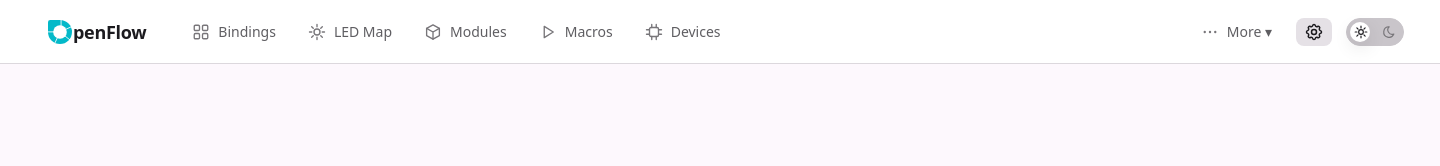
Test: TopNav › links the five pages and Settings, and keeps Hub and Bug Report under More
This screenshot has width=1440, height=166.
Expected: the navigation bar named "Main" is shown, [0,0,1439,64]
Click the button "More ▾" at [1236, 32], box [1187,13,1286,50]
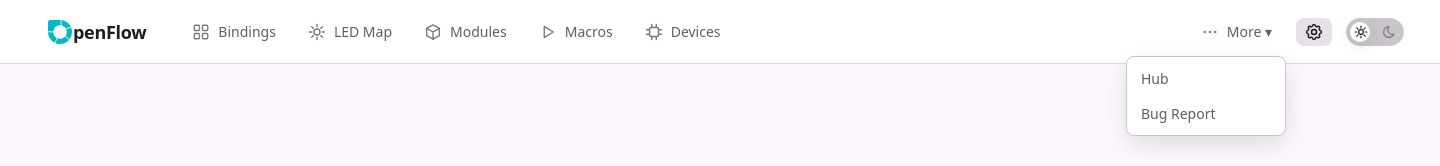
Expected: the menu named "More" is shown, [1126,56,1286,136]
Press Escape
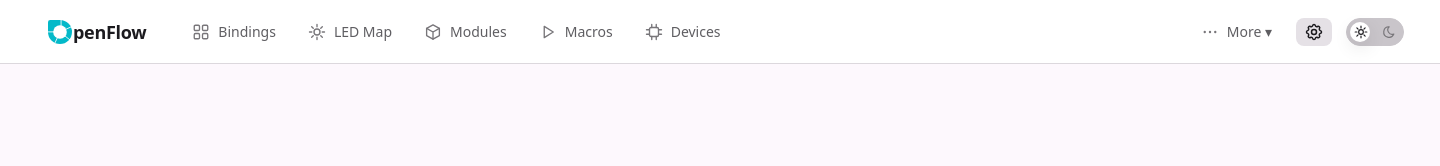
Expected: the menu is gone
